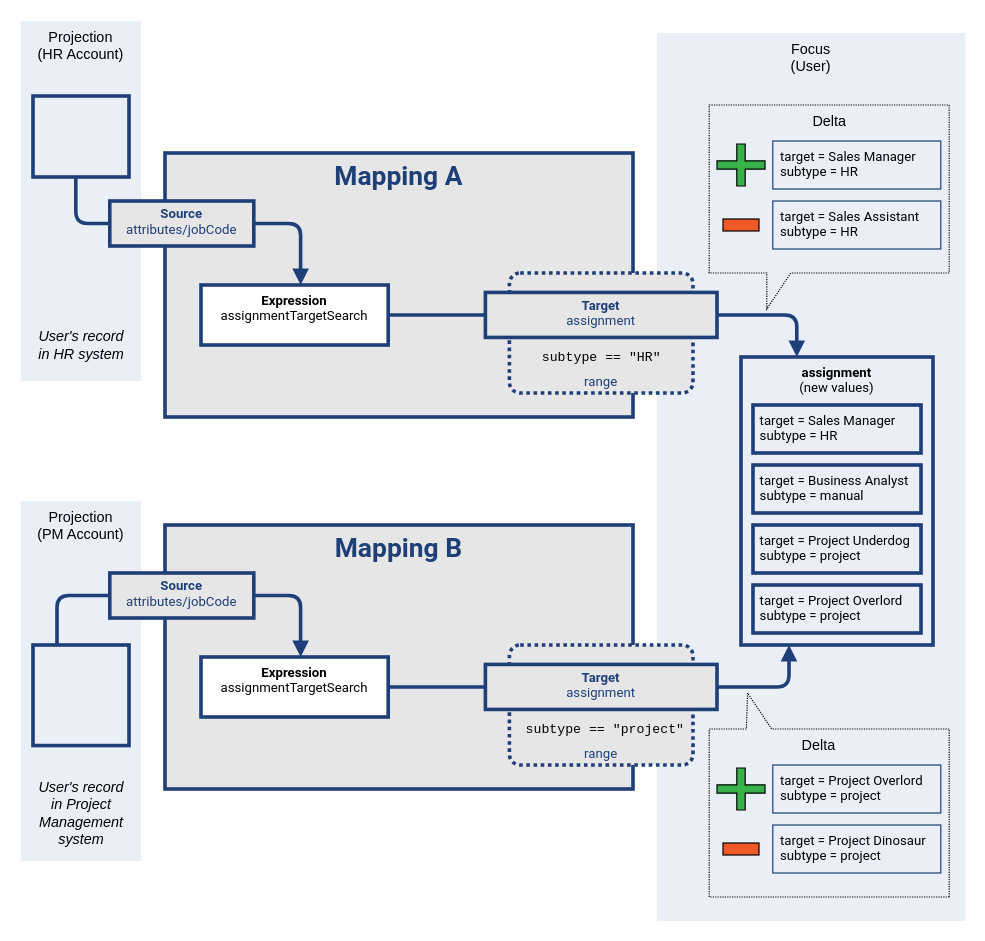
Image size: 985x941. Some labels were removed from this diagram. The centre of each missing label's shape, as x and y in pixels:
"jobCode (new value) 30054" goes at point (80, 136).
"project (new value) overlord underdog" goes at point (80, 695).
